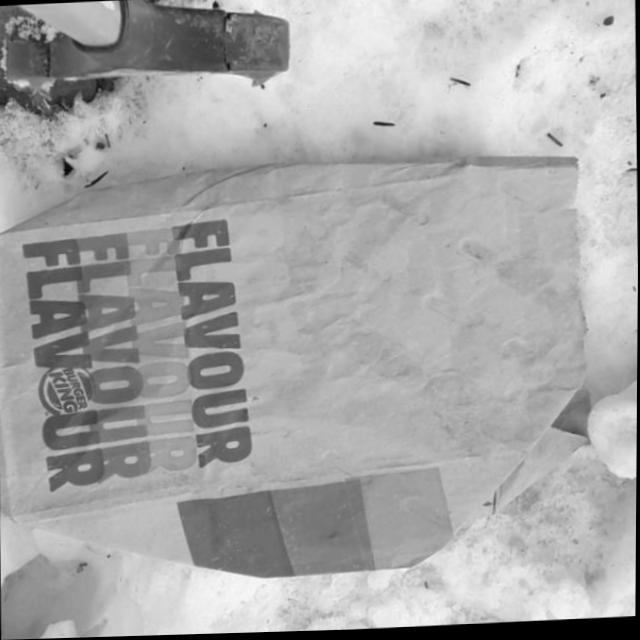Paper: (0, 150, 601, 595)
